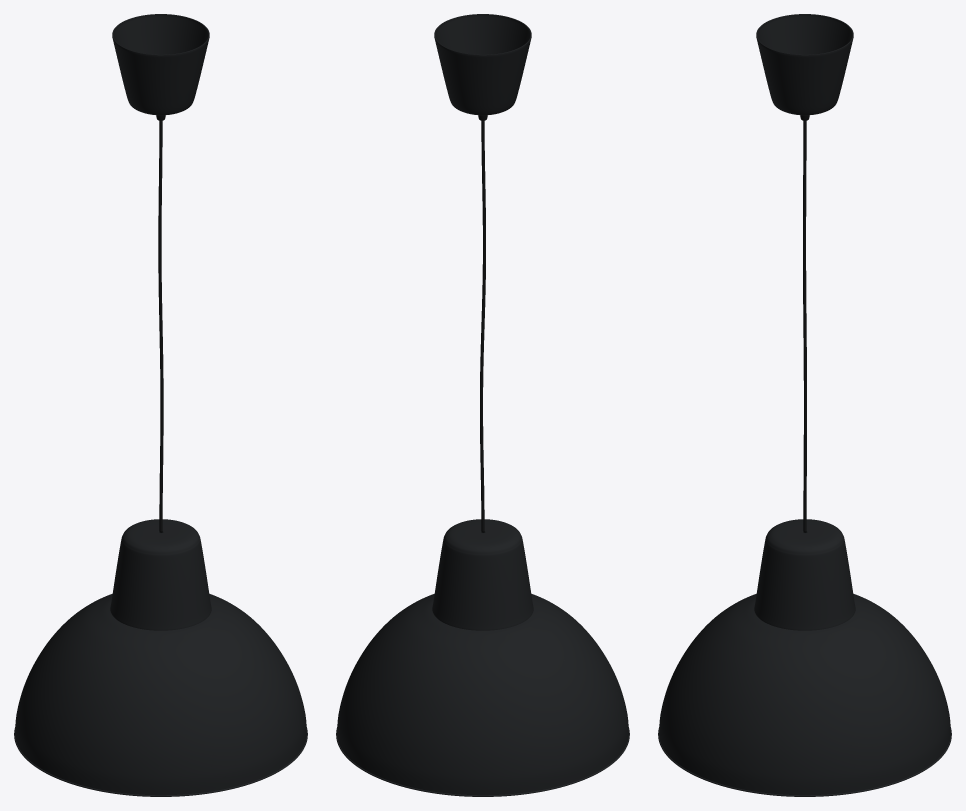
Rendered from small_pendant_lamp.glb.
3 renders of one model, left to right at view 1: azimuth 30°, elevation 25°; view 2: azimuth 150°, elevation 25°; view 3: azimuth 270°, elevation 25°, orthographic.
Visible parts, largest first — view 1: Hollow_dome_black_outside_white_inside, Tapered_upper_lamp_housing, Ceiling_canopy_open_top, Suspension_cord_150cm, Rounded_shade_rim_38cm; view 2: Hollow_dome_black_outside_white_inside, Tapered_upper_lamp_housing, Ceiling_canopy_open_top, Suspension_cord_150cm, Rounded_shade_rim_38cm; view 3: Hollow_dome_black_outside_white_inside, Tapered_upper_lamp_housing, Ceiling_canopy_open_top, Suspension_cord_150cm, Rounded_shade_rim_38cm.
Part boxes in pixels (x1,y1,x2,y2): Hollow_dome_black_outside_white_inside: (15, 594, 306, 795); Tapered_upper_lamp_housing: (110, 519, 211, 630); Ceiling_canopy_open_top: (112, 14, 209, 115); Suspension_cord_150cm: (158, 120, 163, 532); Rounded_shade_rim_38cm: (14, 727, 307, 796); Hollow_dome_black_outside_white_inside: (337, 594, 628, 795); Tapered_upper_lamp_housing: (432, 519, 533, 630); Ceiling_canopy_open_top: (434, 14, 531, 115); Suspension_cord_150cm: (480, 120, 485, 532); Rounded_shade_rim_38cm: (336, 727, 629, 796); Hollow_dome_black_outside_white_inside: (659, 594, 950, 795); Tapered_upper_lamp_housing: (754, 519, 855, 630); Ceiling_canopy_open_top: (756, 14, 853, 115); Suspension_cord_150cm: (803, 120, 806, 532); Rounded_shade_rim_38cm: (658, 727, 951, 796).
Bounding box in the file's own units: 0.38 × 1 × 0.38.
Materials: 5 (3 with a texture image).
